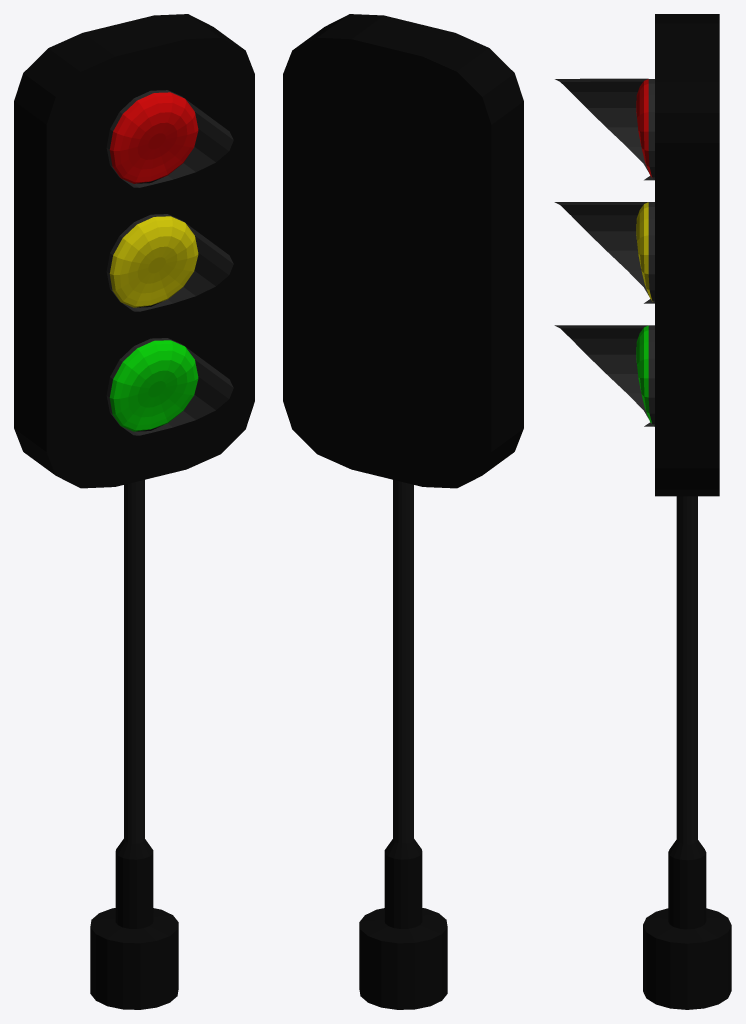
The model's file is Semaforo4.obj.
The picture shows the model from 3 angles, left to right: view 1: azimuth 30°, elevation 25°; view 2: azimuth 150°, elevation 25°; view 3: azimuth 270°, elevation 25°; orthographic projection.
Visible parts, largest first — view 1: Cube; view 2: Cube; view 3: Cube.
Part boxes in pixels (box(x1,y1,x2,y2)): Cube: box(14, 14, 254, 1009); Cube: box(283, 14, 523, 1009); Cube: box(554, 14, 731, 1009).
Size of the model in its own units: 1.15 by 5.04 by 0.8613.
